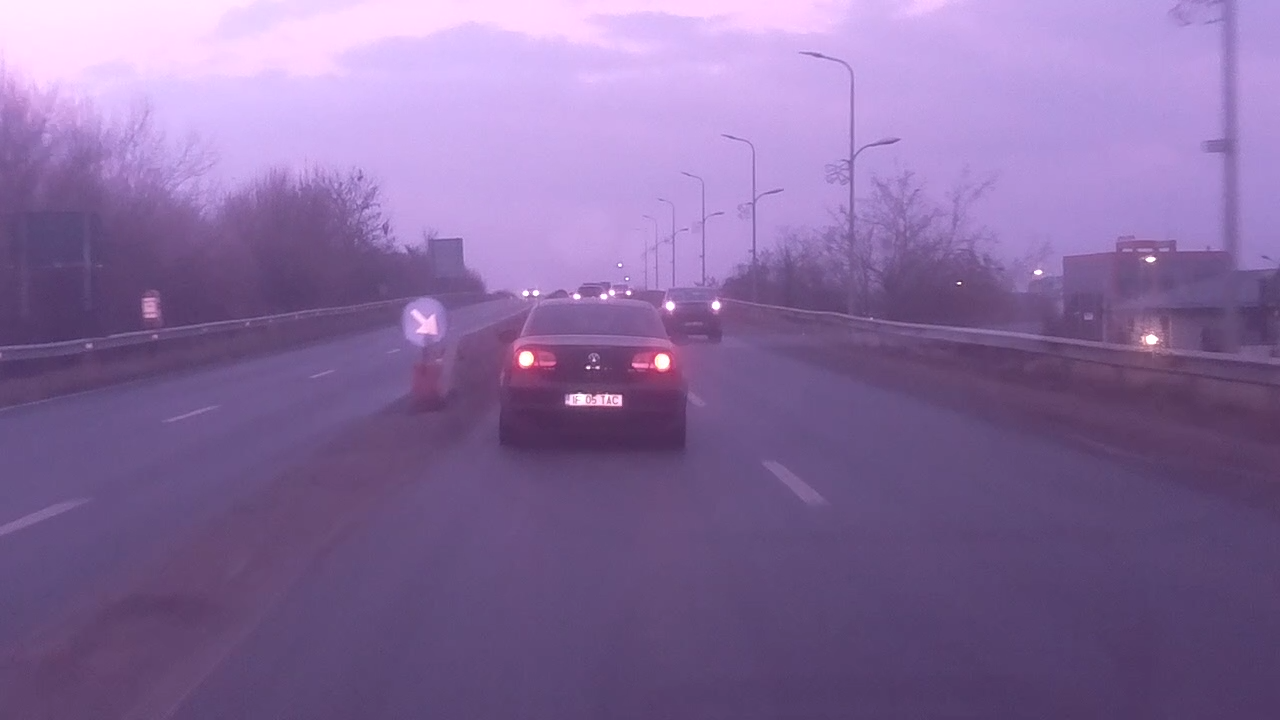license-plate: (559, 390, 627, 409)
